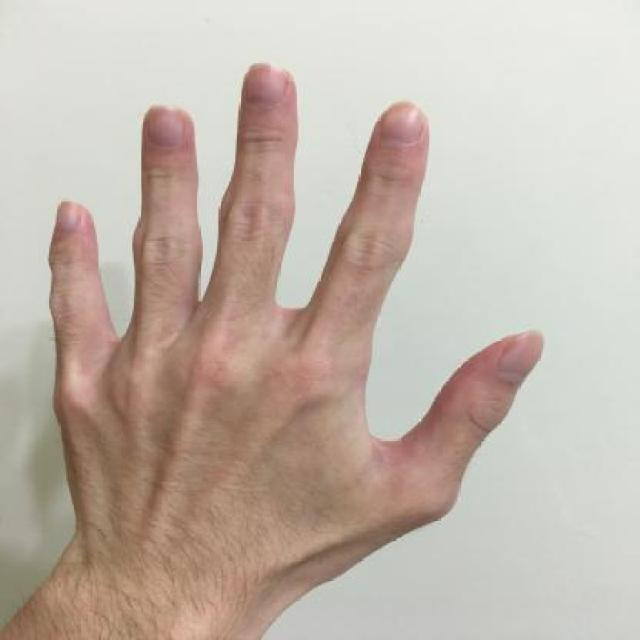bare_hand: (20, 51, 551, 620)
